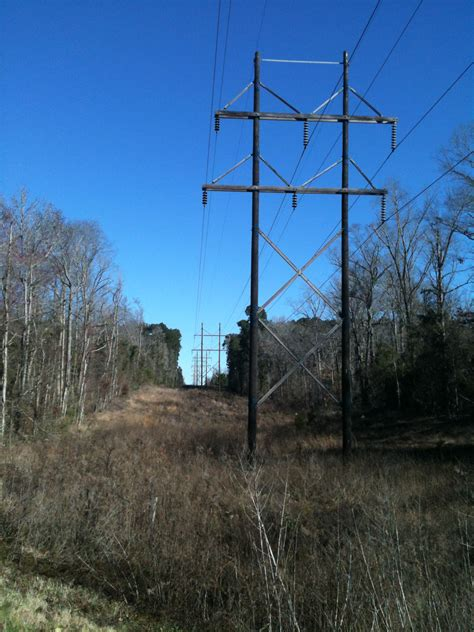pole: (200, 36, 401, 462)
